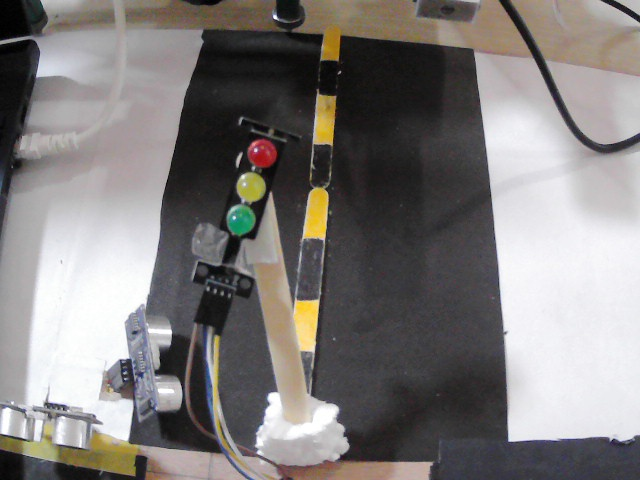black_strip: (293, 240, 324, 297), (306, 144, 332, 186), (296, 348, 313, 387), (319, 58, 337, 90)
mixed_lane: (290, 25, 344, 377)
traffic_light: (196, 120, 301, 315)
uno_breadboard: (102, 304, 182, 426), (0, 402, 100, 451)
yellow_strip: (298, 183, 332, 242), (292, 299, 316, 350), (311, 93, 335, 144), (320, 24, 341, 59)
